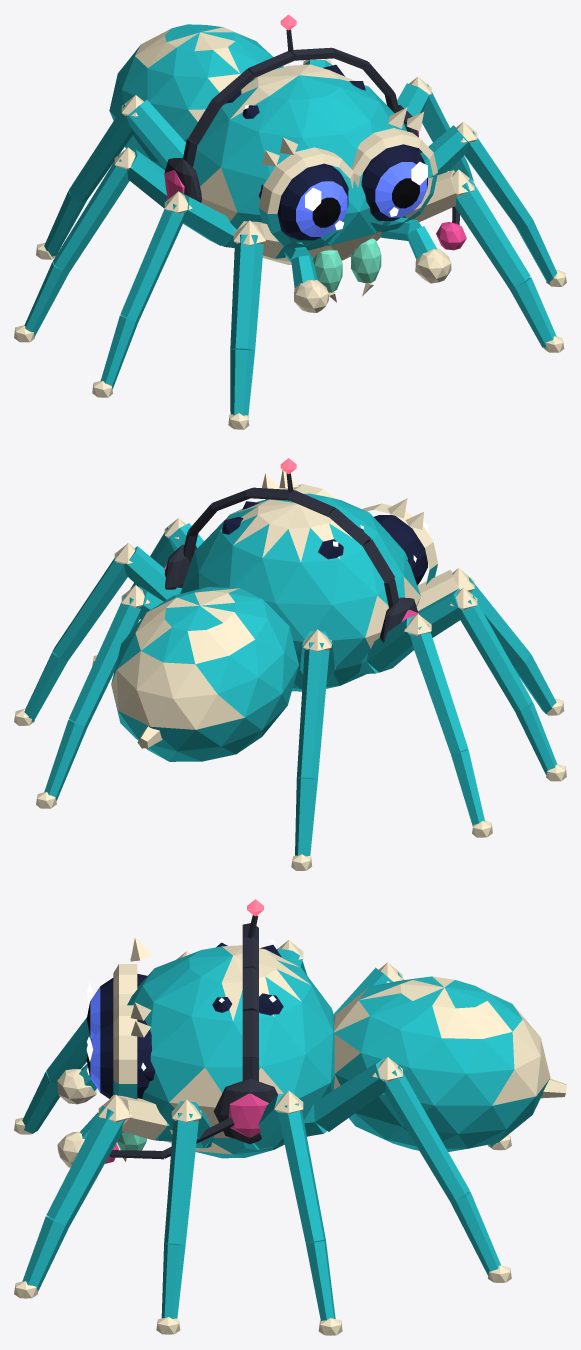
File: wanda.glb
3 renders of one model, top to bottom at view 1: azimuth 30°, elevation 25°; view 2: azimuth 150°, elevation 25°; view 3: azimuth 270°, elevation 25°, orthographic. The views are drawn at different scales.
Visible parts, largest first — view 1: head, abdomen, accessory, leg_R1_lower, leg_L1_lower, leg_R3_lower, leg_R2_lower, eye_R, leg_R4_lower, eye_L, leg_L2_lower, fangs (+11 smaller); view 2: abdomen, head, accessory, leg_R4_lower, leg_L4_lower, leg_R3_lower, leg_R2_lower, leg_L3_lower, leg_R1_lower, leg_R3_upper, leg_L3_upper, eye_R (+4 smaller); view 3: head, abdomen, accessory, leg_L1_lower, leg_L4_lower, leg_L3_lower, leg_L2_lower, leg_L4_upper, leg_R1_lower, eye_L, leg_L1_upper, eye_R (+5 smaller).
Boxes of the visible parts, left/top/right/bottom form: head: left=193, top=64, right=437, bottom=264; abdomen: left=109, top=24, right=283, bottom=169; accessory: left=164, top=14, right=466, bottom=250; leg_R1_lower: left=228, top=220, right=265, bottom=429; leg_L1_lower: left=452, top=169, right=564, bottom=352; leg_R3_lower: left=14, top=147, right=135, bottom=342; leg_R2_lower: left=92, top=191, right=192, bottom=397; eye_R: left=277, top=163, right=348, bottom=240; leg_R4_lower: left=36, top=95, right=144, bottom=259; eye_L: left=361, top=144, right=427, bottom=220; leg_L2_lower: left=456, top=122, right=566, bottom=286; fangs: left=313, top=238, right=381, bottom=302; abdomen: left=111, top=587, right=298, bottom=761; head: left=180, top=470, right=437, bottom=691; accessory: left=163, top=458, right=418, bottom=642; leg_R4_lower: left=291, top=629, right=331, bottom=870; leg_L4_lower: left=36, top=585, right=149, bottom=808; leg_R3_lower: left=404, top=614, right=492, bottom=837; leg_R2_lower: left=450, top=587, right=566, bottom=781; leg_L3_lower: left=14, top=543, right=135, bottom=725; leg_R1_lower: left=452, top=568, right=564, bottom=715; leg_R3_upper: left=358, top=616, right=414, bottom=673; leg_L3_upper: left=123, top=546, right=181, bottom=601; eye_R: left=374, top=515, right=427, bottom=585; head: left=113, top=938, right=334, bottom=1158; abdomen: left=333, top=976, right=566, bottom=1151; accessory: left=105, top=899, right=277, bottom=1163; leg_L1_lower: left=14, top=1095, right=133, bottom=1298; leg_L4_lower: left=372, top=1057, right=511, bottom=1282; leg_L3_lower: left=274, top=1090, right=342, bottom=1335; leg_L2_lower: left=156, top=1099, right=201, bottom=1334; leg_L4_upper: left=304, top=1058, right=385, bottom=1136; leg_R1_lower: left=14, top=1017, right=91, bottom=1134; eye_L: left=86, top=1019, right=151, bottom=1098; leg_L1_upper: left=108, top=1095, right=172, bottom=1141; eye_R: left=86, top=974, right=147, bottom=1039.
Bounding box in the file's own units: 2.1 × 1.26 × 1.98.
